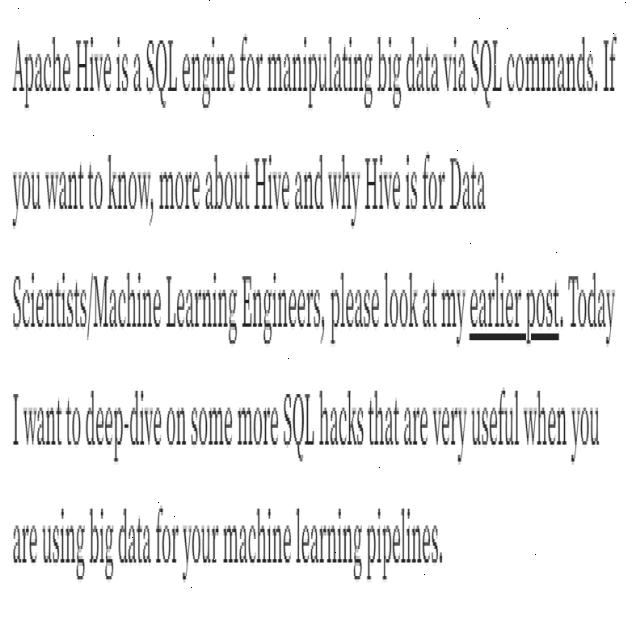word: (9, 264, 163, 358), (266, 26, 374, 124), (468, 264, 566, 358), (362, 496, 449, 597), (242, 268, 327, 362), (504, 28, 602, 99), (86, 386, 166, 472), (292, 492, 367, 582), (167, 266, 239, 352), (222, 504, 295, 577), (330, 253, 381, 356), (180, 28, 238, 118), (13, 28, 72, 112), (565, 262, 619, 350), (180, 501, 222, 599), (107, 152, 157, 228), (282, 371, 318, 476), (318, 386, 368, 461), (117, 494, 155, 592), (363, 137, 404, 227), (204, 143, 250, 223), (468, 389, 522, 457), (8, 155, 46, 249), (567, 384, 605, 478), (522, 391, 568, 466), (44, 504, 88, 582), (383, 262, 421, 350), (429, 390, 472, 466), (75, 30, 113, 114), (374, 10, 404, 116), (237, 393, 282, 463), (469, 26, 503, 118), (448, 145, 489, 221), (85, 494, 117, 590), (366, 380, 403, 462), (145, 28, 180, 114), (159, 157, 203, 225), (254, 148, 292, 226), (191, 393, 234, 461), (325, 150, 363, 226), (25, 386, 63, 462), (405, 29, 440, 111), (46, 159, 86, 227), (293, 157, 329, 227), (236, 32, 267, 108), (9, 500, 39, 576), (442, 27, 469, 111), (400, 384, 431, 457), (154, 496, 180, 580), (442, 272, 466, 354), (422, 148, 447, 224), (167, 393, 189, 468), (64, 386, 84, 468), (86, 148, 106, 228), (115, 19, 130, 120), (602, 25, 620, 105), (8, 376, 24, 462), (404, 148, 420, 226), (422, 270, 438, 343), (132, 32, 144, 116)
